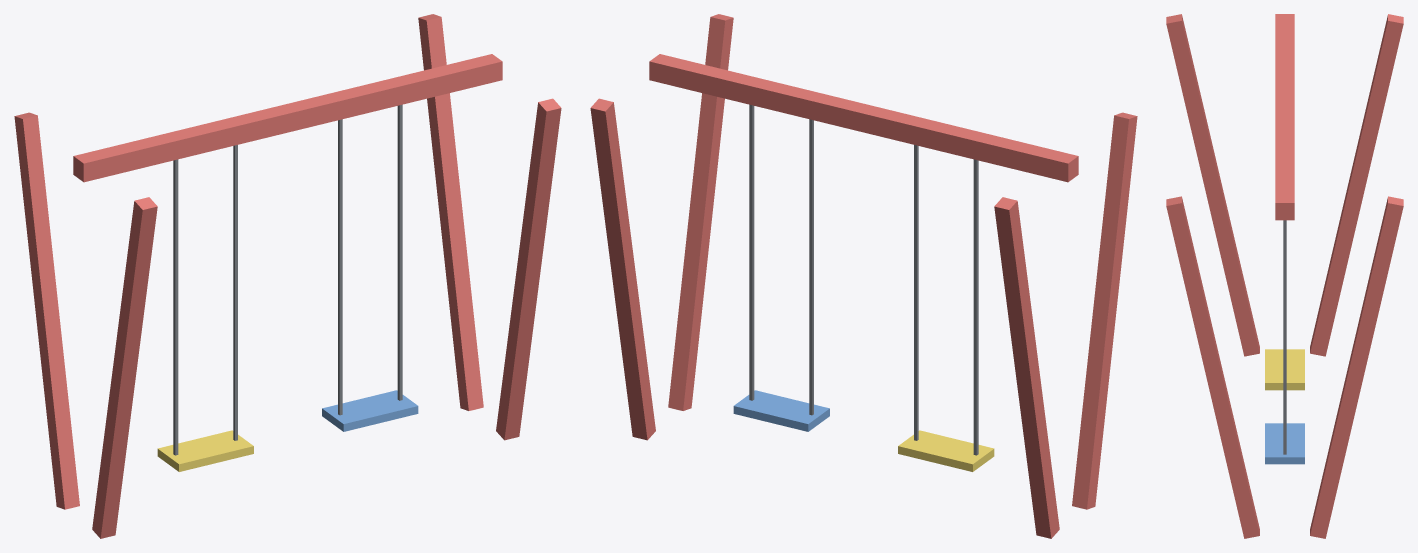
File: swing_set.glb
3 renders of one model, left to right at view 1: azimuth 30°, elevation 25°; view 2: azimuth 150°, elevation 25°; view 3: azimuth 270°, elevation 25°, orthographic. The views are drawn at different scales.
Parts seen in each view (by area): view 1: frame, swing_r, swing_l; view 2: frame, swing_r, swing_l; view 3: frame, swing_r, swing_l.
Part boxes in pixels (box(x1,y1,x2,y2)): frame: box(14, 14, 561, 538); swing_r: box(322, 104, 418, 431); swing_l: box(157, 145, 253, 471); frame: box(590, 14, 1137, 538); swing_r: box(733, 104, 829, 431); swing_l: box(898, 145, 994, 471); frame: box(1166, 14, 1403, 538); swing_r: box(1265, 220, 1304, 464); swing_l: box(1265, 349, 1304, 390).
Bounding box in the file's own units: 2.8 × 2.32 × 1.49.
